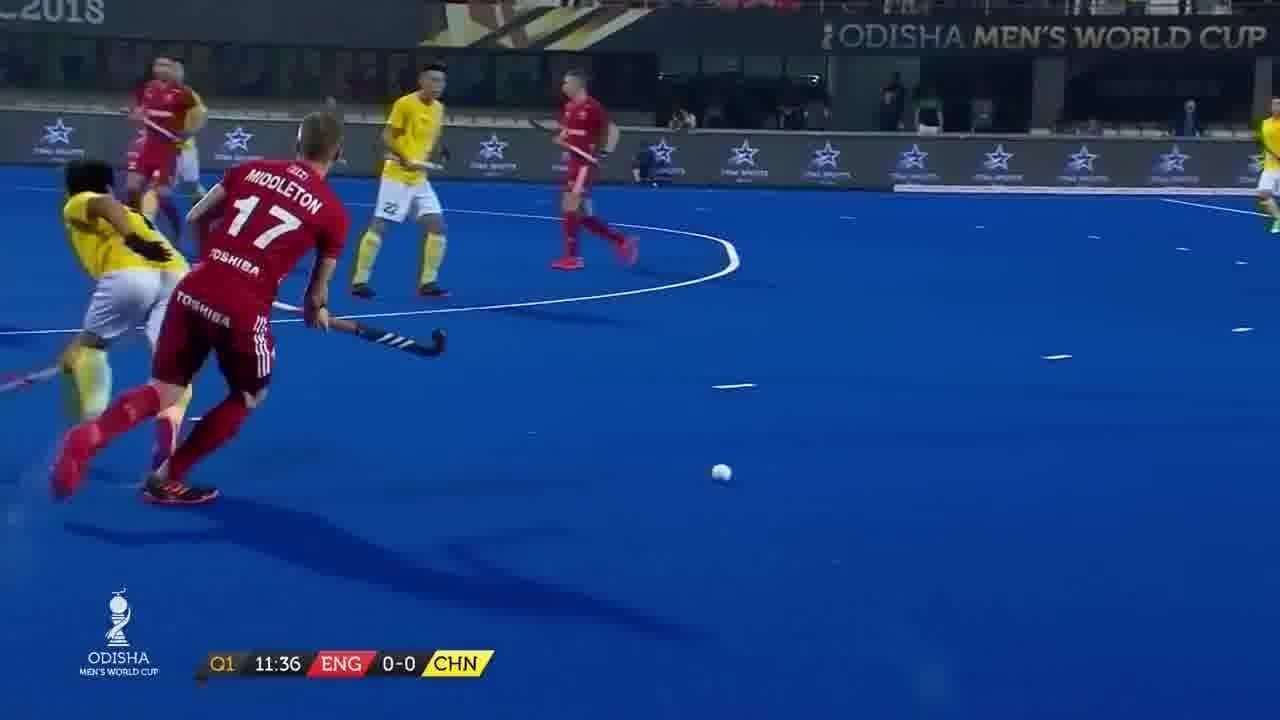ball: (702, 462, 738, 490)
